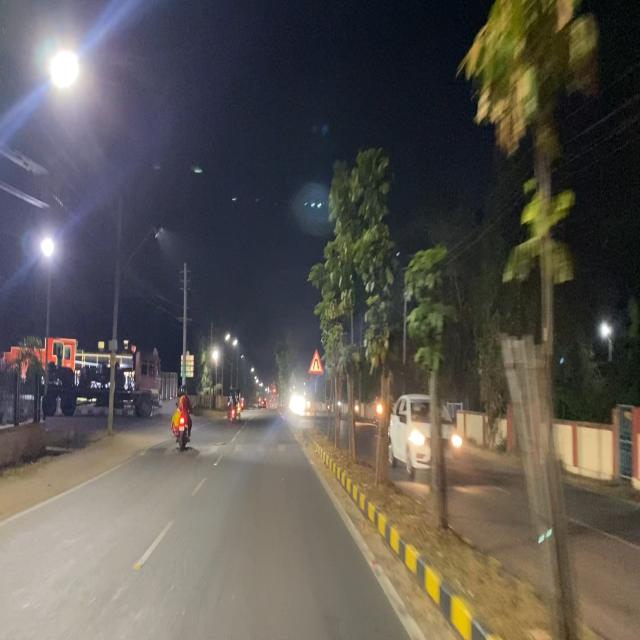bien_cam: (308, 348, 324, 376)
